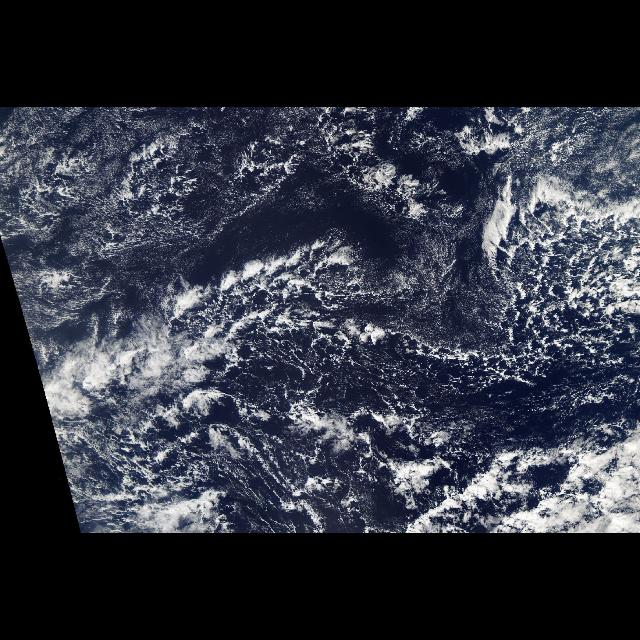Gravel: (202, 192, 640, 416), (110, 132, 308, 225)
Sugar: (368, 217, 494, 363)
